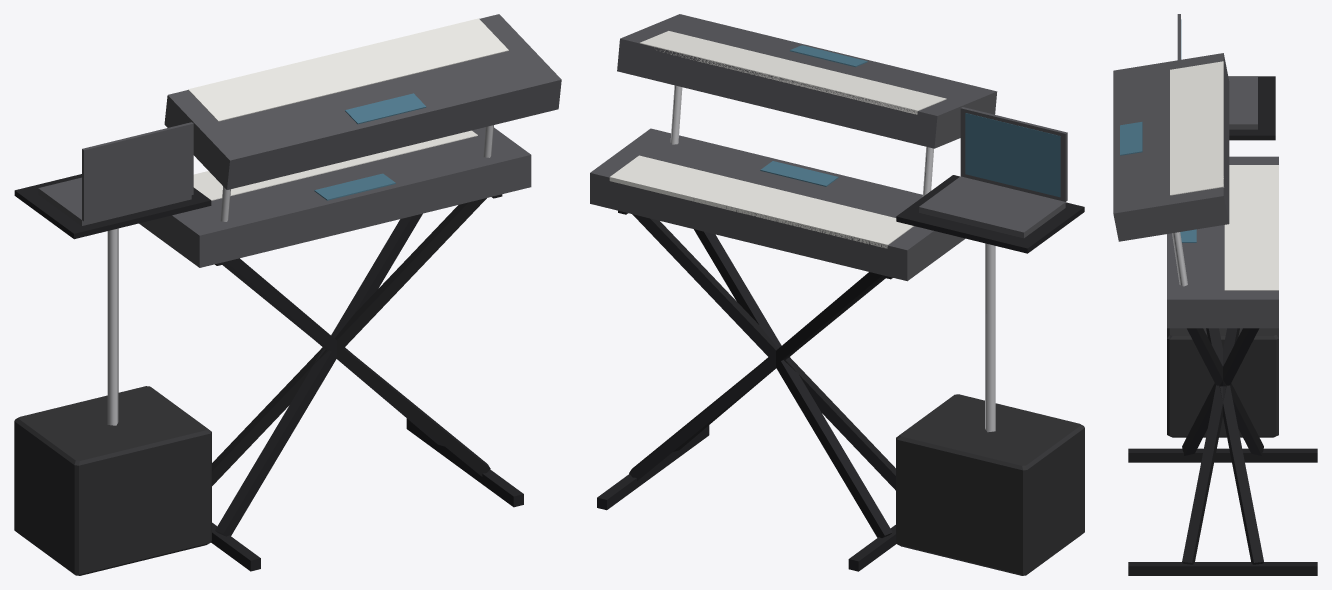
File: synth-61-double-low.glb
3 views of the same model, side by side, from view 1: azimuth 30°, elevation 25°; view 2: azimuth 150°, elevation 25°; view 3: azimuth 270°, elevation 25° (orthographic). The views are drawn at different scales.
Parts seen in each view (by area): view 1: panel, cabinet, frame, keys, metal, screen; view 2: panel, cabinet, frame, keys, screen, metal; view 3: panel, frame, keys, cabinet, screen, metal.
Part boxes in pixels (x1,y1,x2,y2): panel: (38,14,561,267); cabinet: (14,386,211,575); frame: (14,174,523,571); keys: (188,18,508,200); metal: (107,125,493,425); screen: (314,93,426,200); panel: (590,14,1067,281); cabinet: (896,394,1084,575); frame: (597,175,1084,571); keys: (609,31,946,248); screen: (760,45,1060,197); metal: (670,85,995,432); panel: (1113,14,1278,328); frame: (1128,76,1317,575); keys: (1170,61,1278,290); cabinet: (1167,328,1278,437); screen: (1120,19,1196,242); metal: (1172,232,1187,286).
Bounding box in the file's own units: 1.33 × 1.24 × 0.5832.
